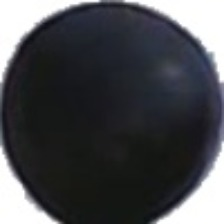grapes: (32, 22, 218, 217)
